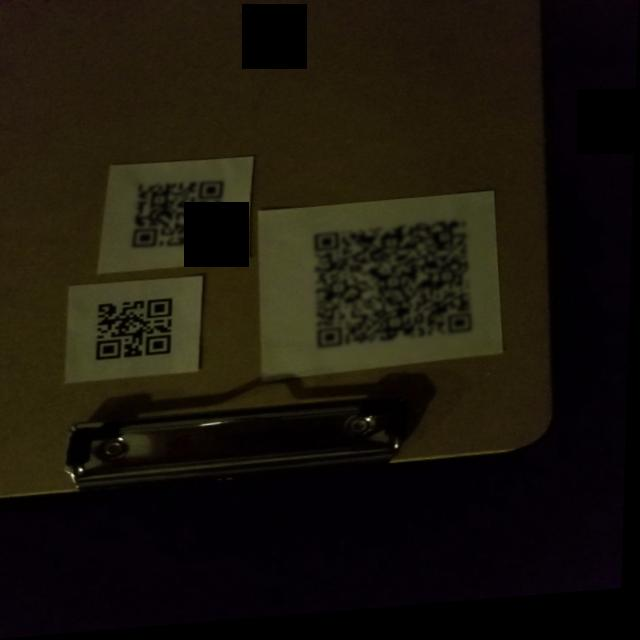QR_CODE: (305, 218, 488, 371), (127, 169, 242, 263), (81, 287, 189, 376)
